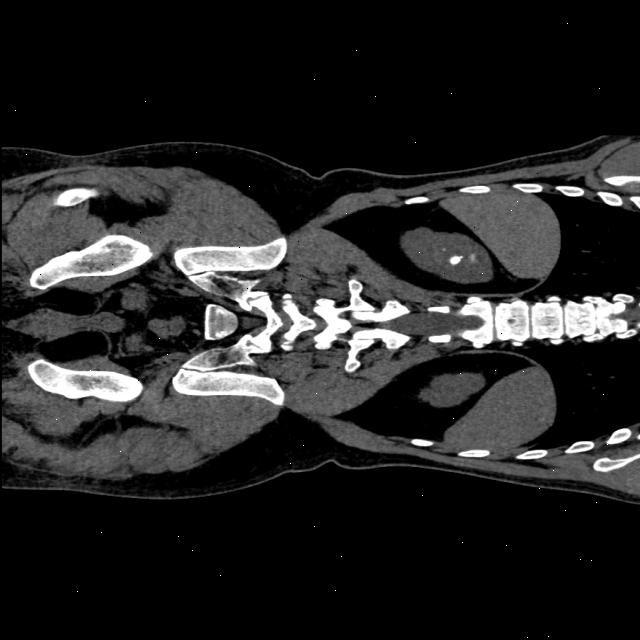kidneystone: (449, 256, 462, 265), (449, 256, 462, 264)
